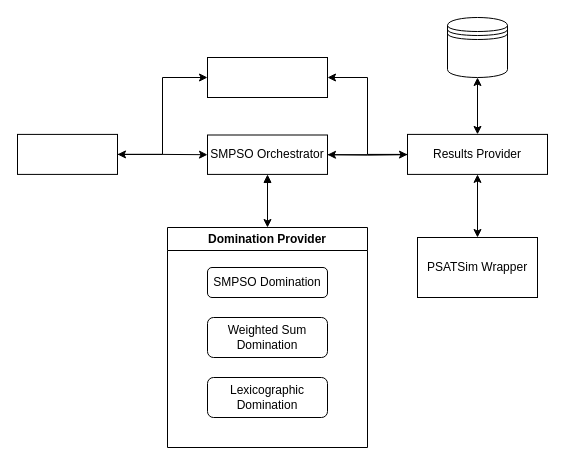
Image size: 565x465. Some labels were removed from this diagram. The centre of each missing label's shape, as x and y in pixels:
"Results DB" belongs at (x=477, y=47).
"User Interface" belongs at (x=67, y=153).
"VEGA Orchestrator" belongs at (x=267, y=77).
